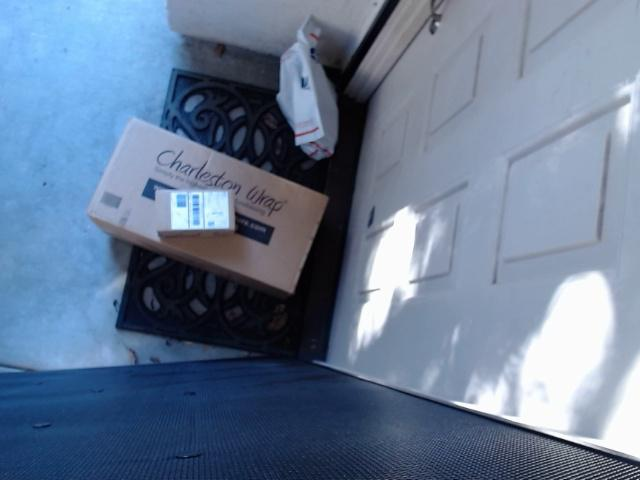box: (85, 117, 329, 299), (155, 189, 235, 237)
plastic_bag: (275, 13, 339, 160)
